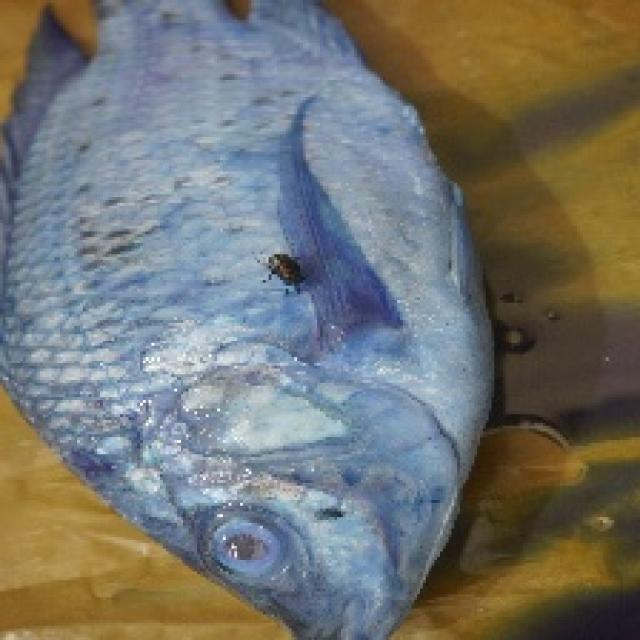Non-Fresh: (9, 44, 513, 488), (184, 499, 316, 594)
